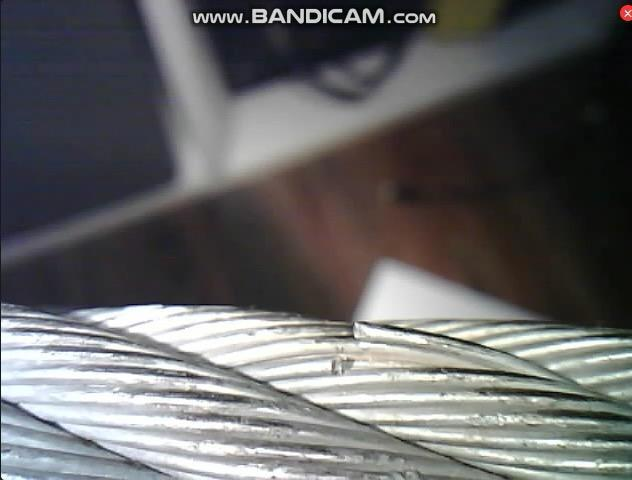break: (313, 318, 383, 387)
